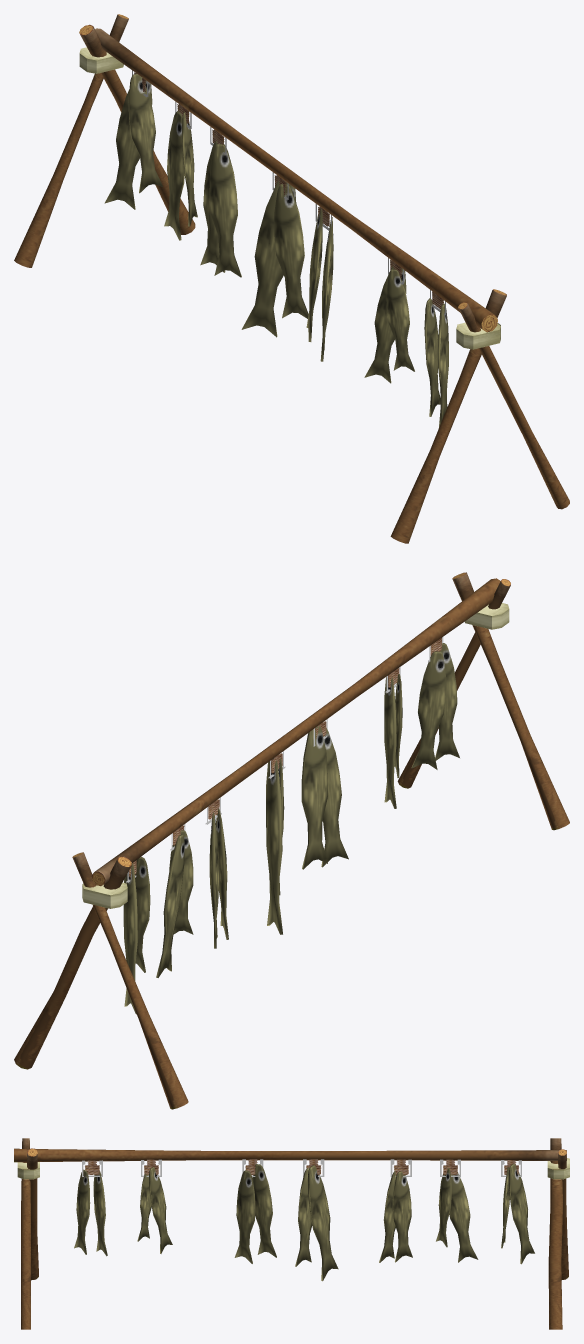
The model's file is Fish2.FBX.
The picture shows the model from 3 angles, top to bottom: view 1: azimuth 30°, elevation 25°; view 2: azimuth 150°, elevation 25°; view 3: azimuth 270°, elevation 25°; orthographic projection. The views are drawn at different scales.
Visible parts, largest first — view 1: Cylinder004; view 2: Cylinder004; view 3: Cylinder004.
Part boxes in pixels (<box>): Cylinder004: <box>14,14,569,543</box>; Cylinder004: <box>14,572,569,1109</box>; Cylinder004: <box>14,1138,569,1329</box>.
Size of the model in its own units: 38.47 by 48.47 by 151.
